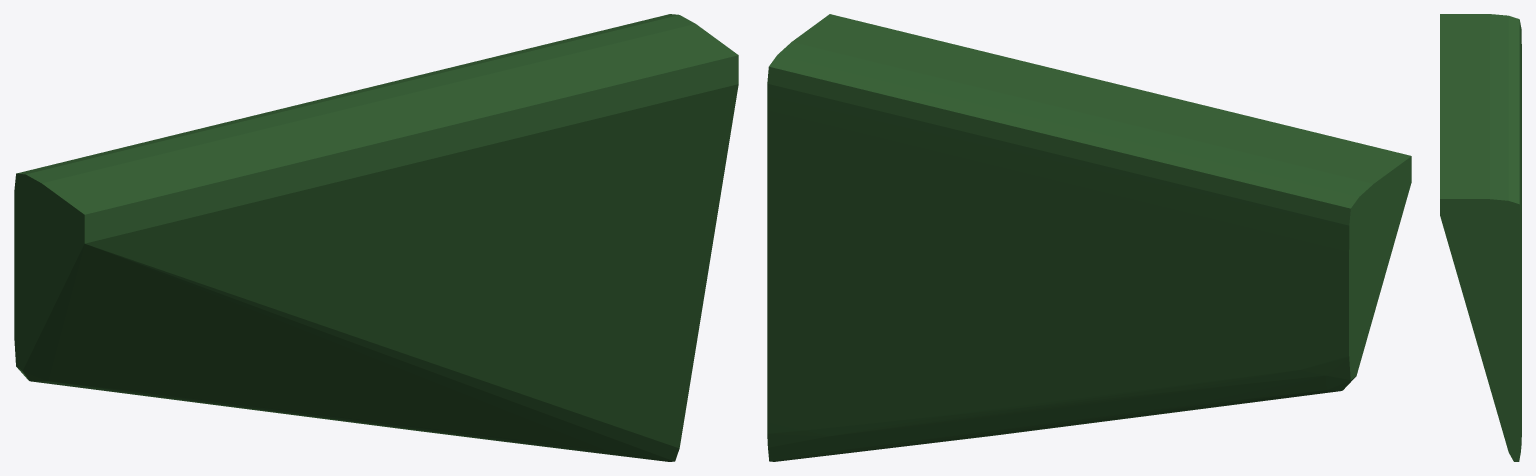
Rendered from left_hip_yaw_link_part_19.obj.
3 views of the same model, side by side, from view 1: azimuth 30°, elevation 25°; view 2: azimuth 150°, elevation 25°; view 3: azimuth 270°, elevation 25° (orthographic). The views are drawn at different scales.
Bounding box in the file's own units: 0.0315 × 0.0209 × 0.00588.
